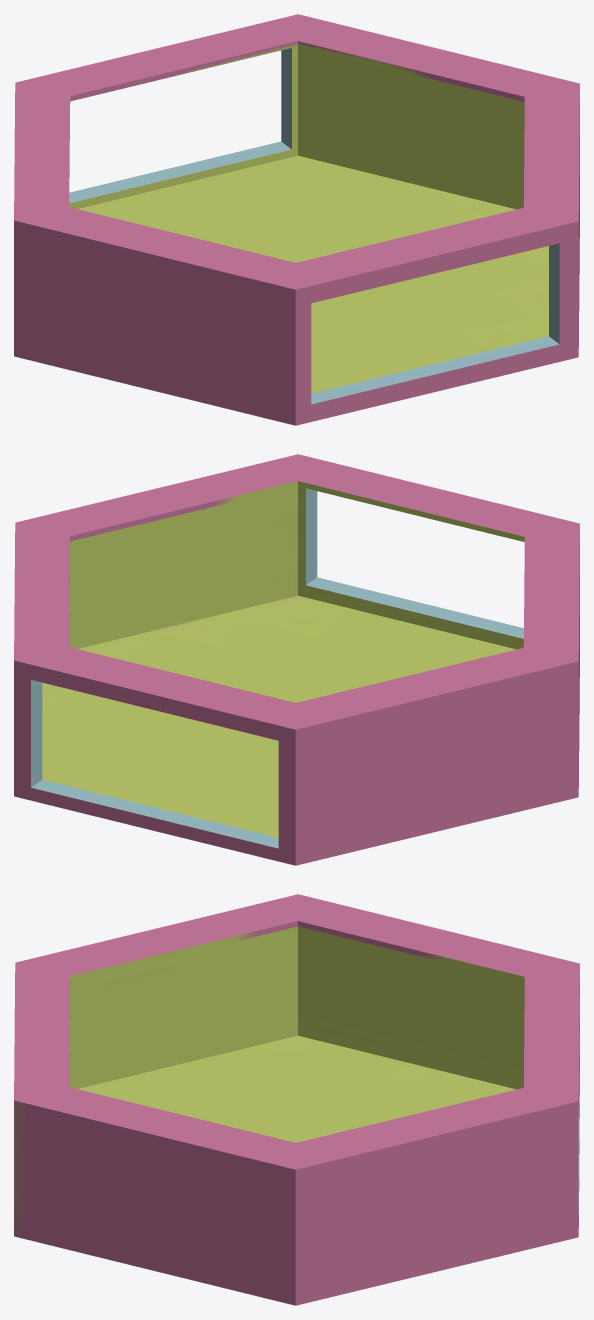
The model's file is baseVanta.obj.
The picture shows the model from 3 angles, top to bottom: view 1: azimuth 30°, elevation 25°; view 2: azimuth 150°, elevation 25°; view 3: azimuth 270°, elevation 25°; orthographic projection.
Parts seen in each view (by area): view 1: base; view 2: base; view 3: base.
Boxes of the visible parts, x1=… form: base: x1=14, y1=14, x2=579, y2=425; base: x1=14, y1=454, x2=579, y2=865; base: x1=14, y1=894, x2=579, y2=1305.
Bounding box in the file's own units: 2 × 0.4602 × 1.74.
